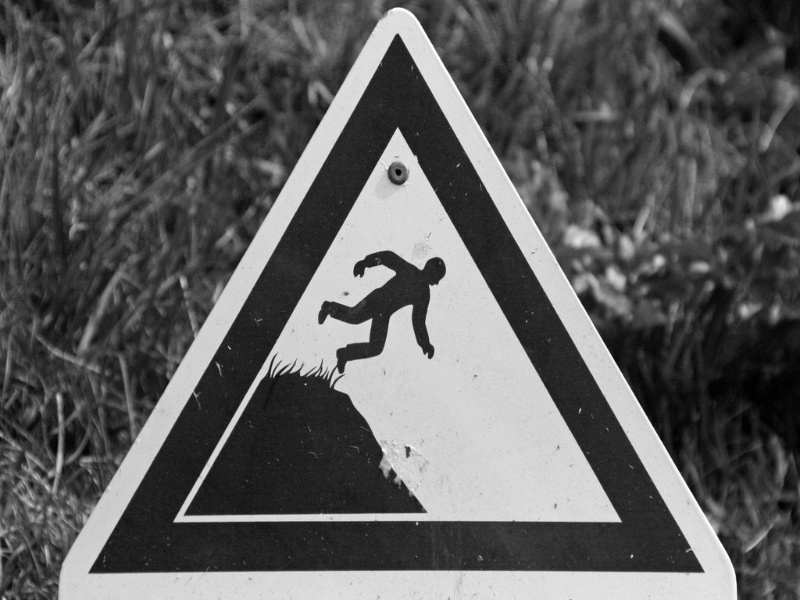cliff_edge: (47, 6, 734, 597)
